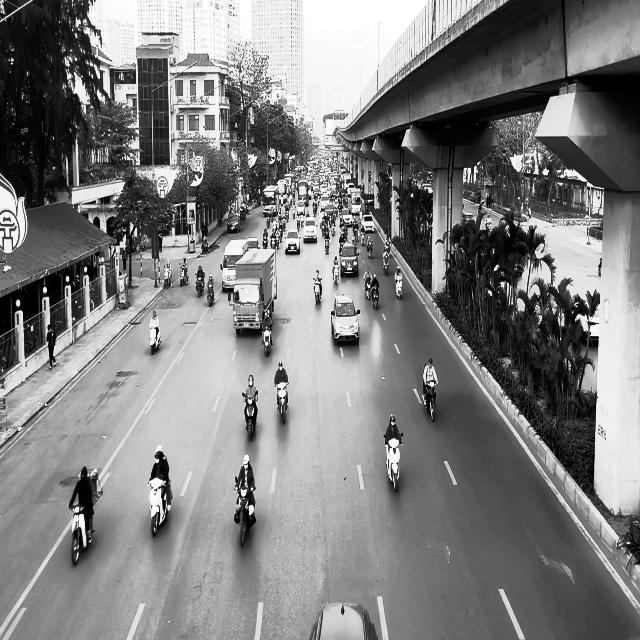car: (308, 603, 378, 639), (331, 294, 360, 344), (339, 243, 359, 277), (284, 228, 300, 254)
motorbike: (70, 488, 102, 565), (234, 477, 256, 546), (148, 478, 172, 536), (383, 432, 403, 492), (242, 390, 258, 440), (423, 381, 437, 422), (275, 383, 289, 423), (149, 325, 161, 354), (262, 327, 272, 357), (313, 279, 322, 304), (370, 284, 379, 309), (382, 249, 390, 275), (195, 274, 204, 297), (394, 275, 402, 299), (363, 277, 371, 299), (164, 267, 172, 288), (332, 262, 339, 285), (207, 286, 214, 307), (366, 240, 373, 258)
truck: (232, 248, 277, 335)
